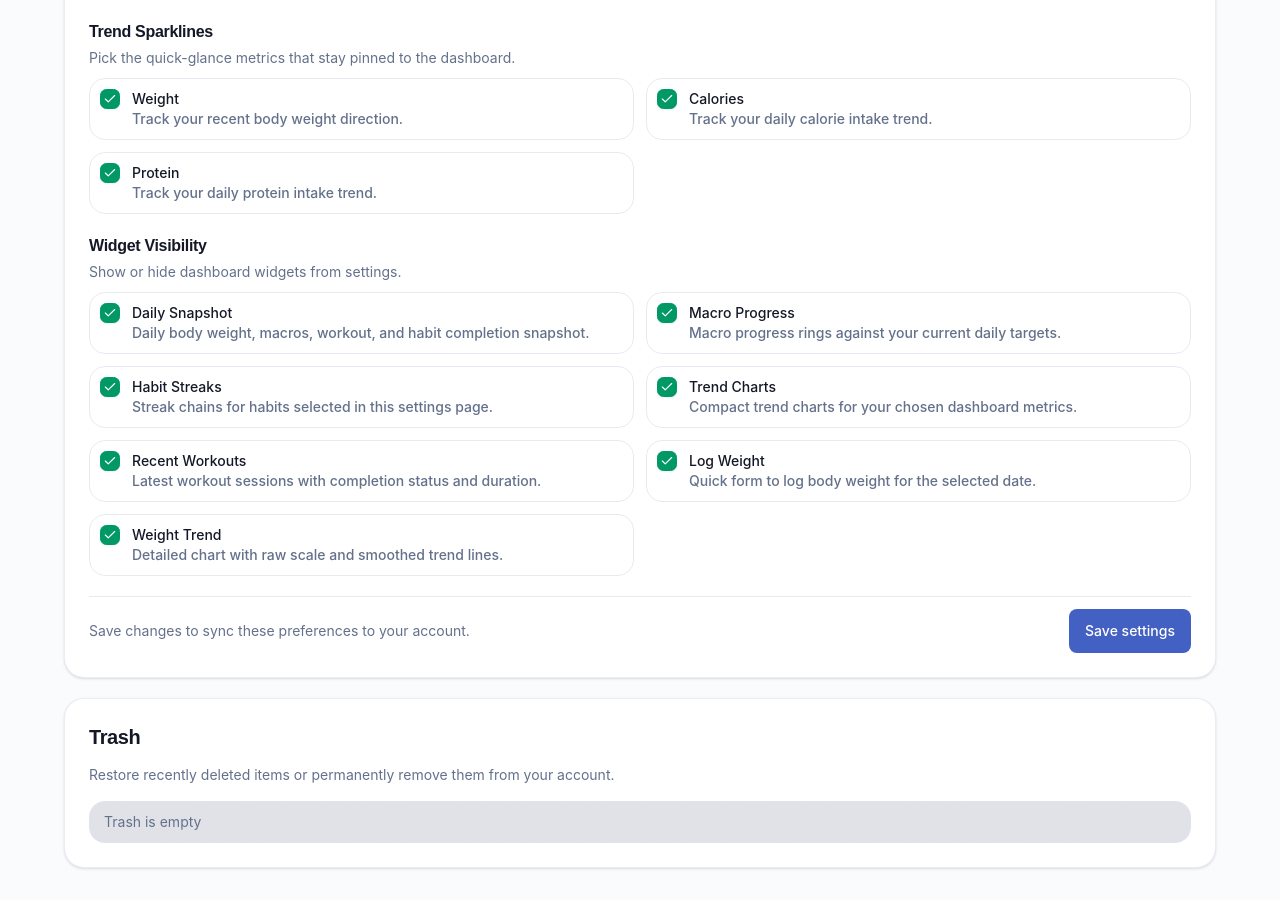
Test: SettingsPage › shows a partial failure message when dashboard config save fails
The image size is (1280, 900).
(page scrolled)
Click the button "Save settings". click: coordinates (1130, 631)
box: [1069,609,1191,653]
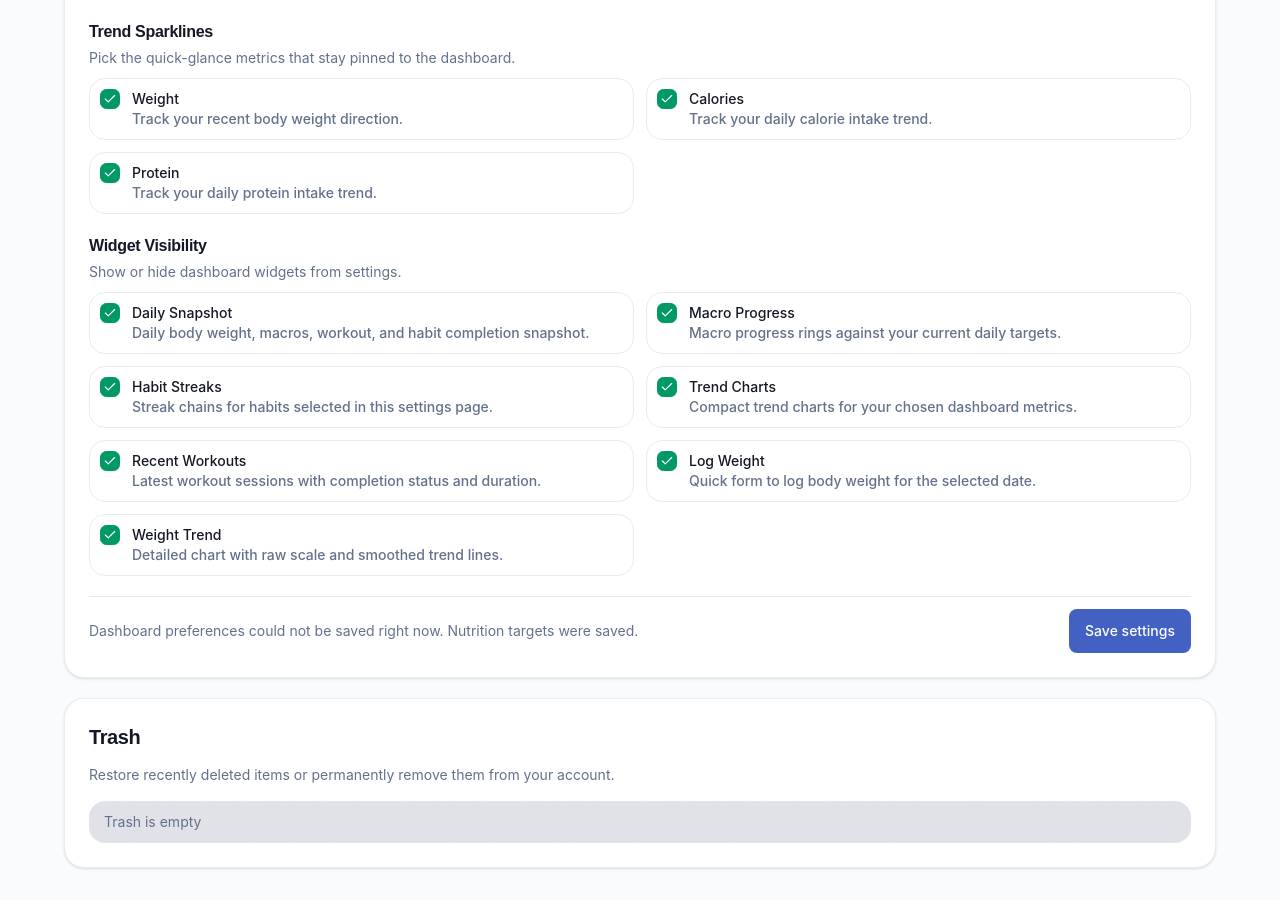
Expected: the text "Dashboard preferences could not be saved right now. Nutrition targets were saved." is shown, [89,622,638,639]
